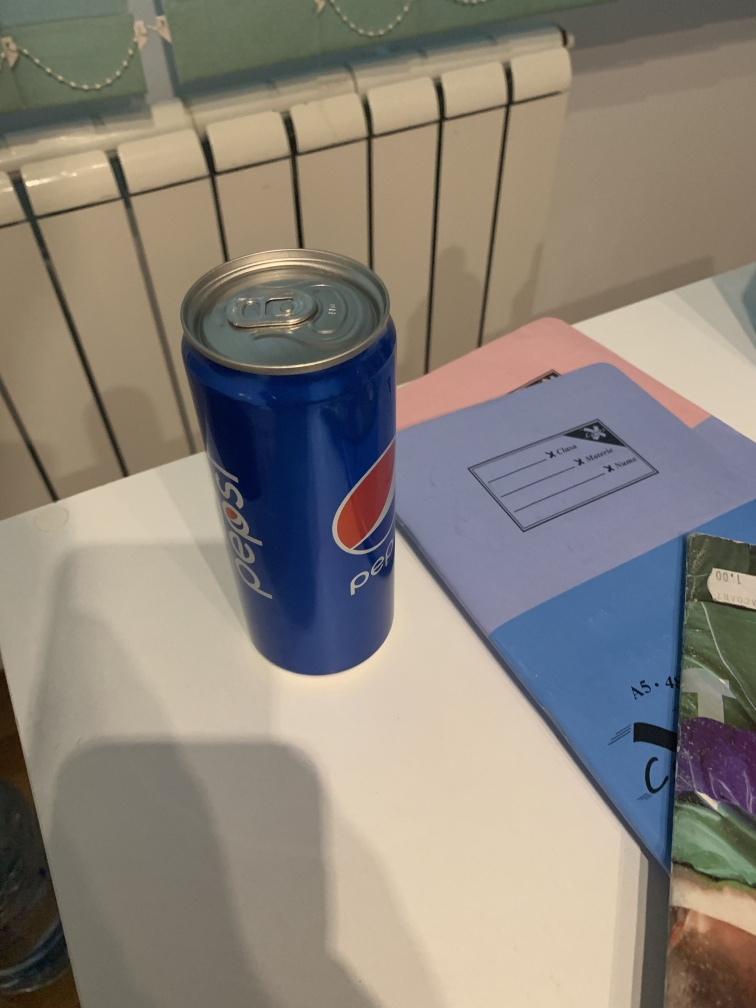pepsi: (166, 245, 444, 686)
